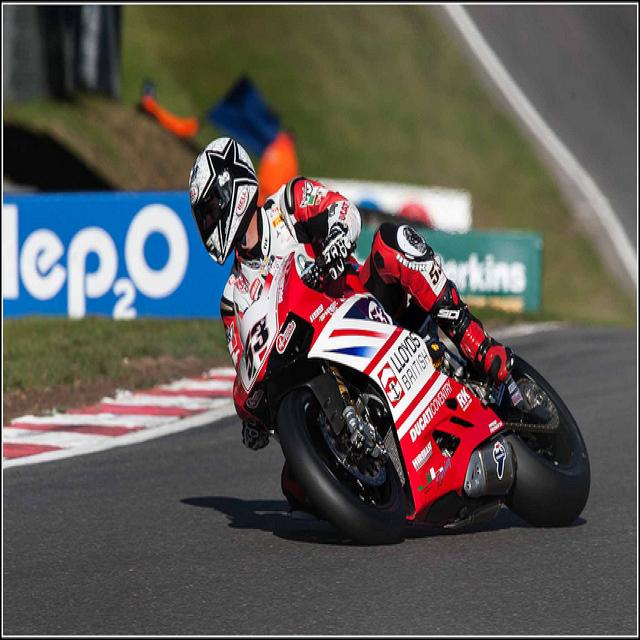motor: (230, 251, 593, 546)
